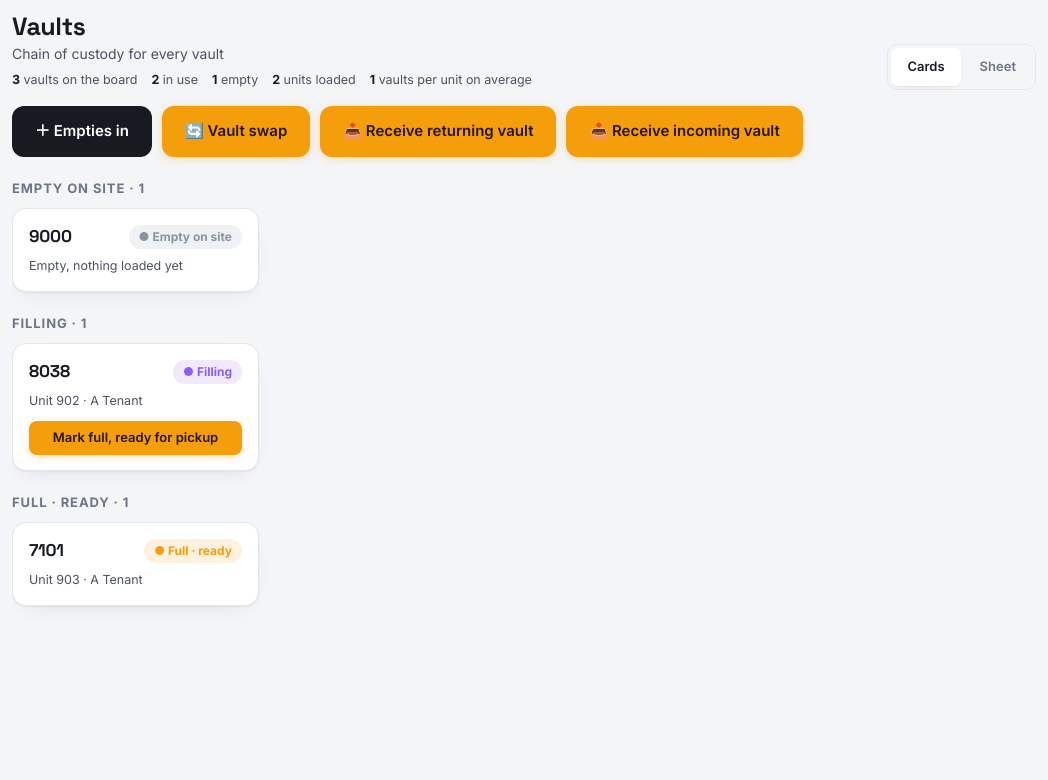
the vault sheet › offers a way to send it to BigBox
Click the button "Sheet".
click(998, 67)  # box [964,48,1032,86]
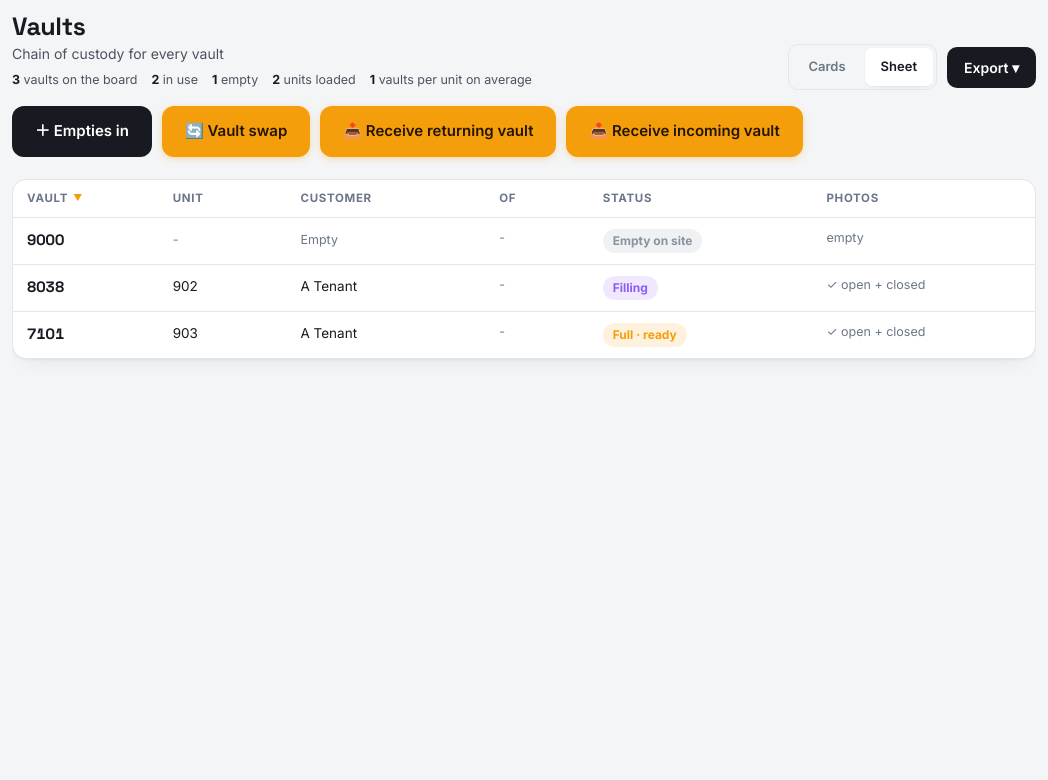
Click the button "Export ▾".
click(992, 67)  # box [947,46,1036,88]
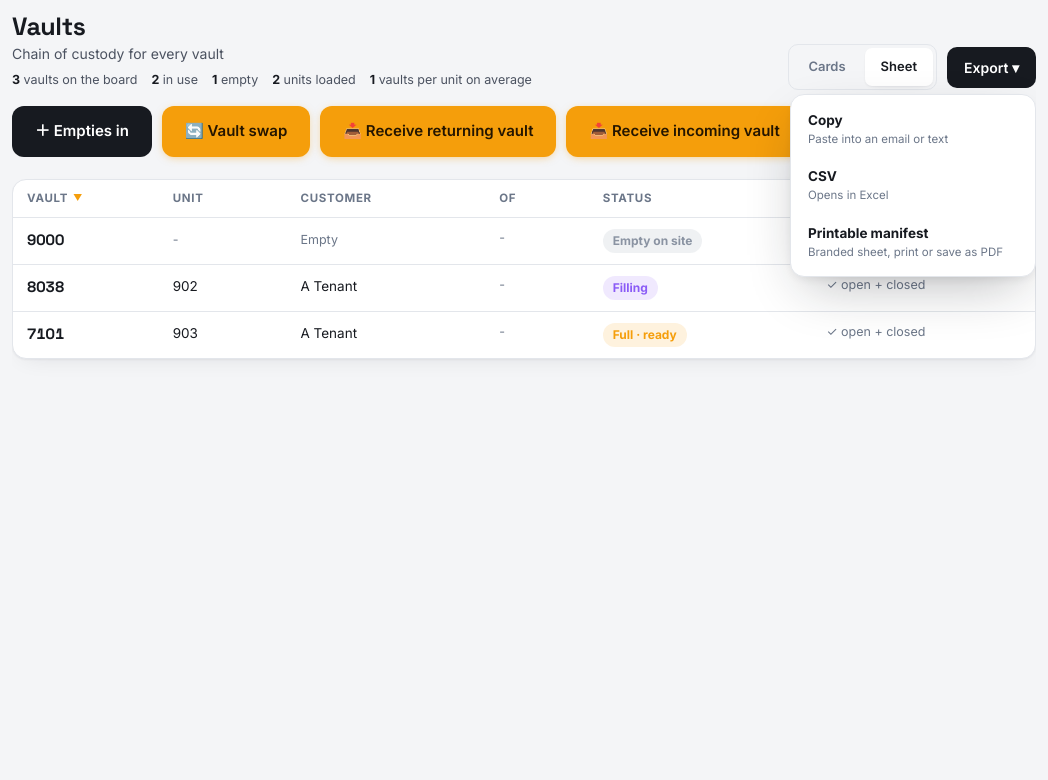
Now the menu is shown, box [790,94,1036,277]
Now the menu item "CSV Opens in Excel" is shown, box [797,157,1029,214]
Now the menu item "Printable manifest Branded sheet, print or save as PDF" is shown, box [797,214,1029,270]
